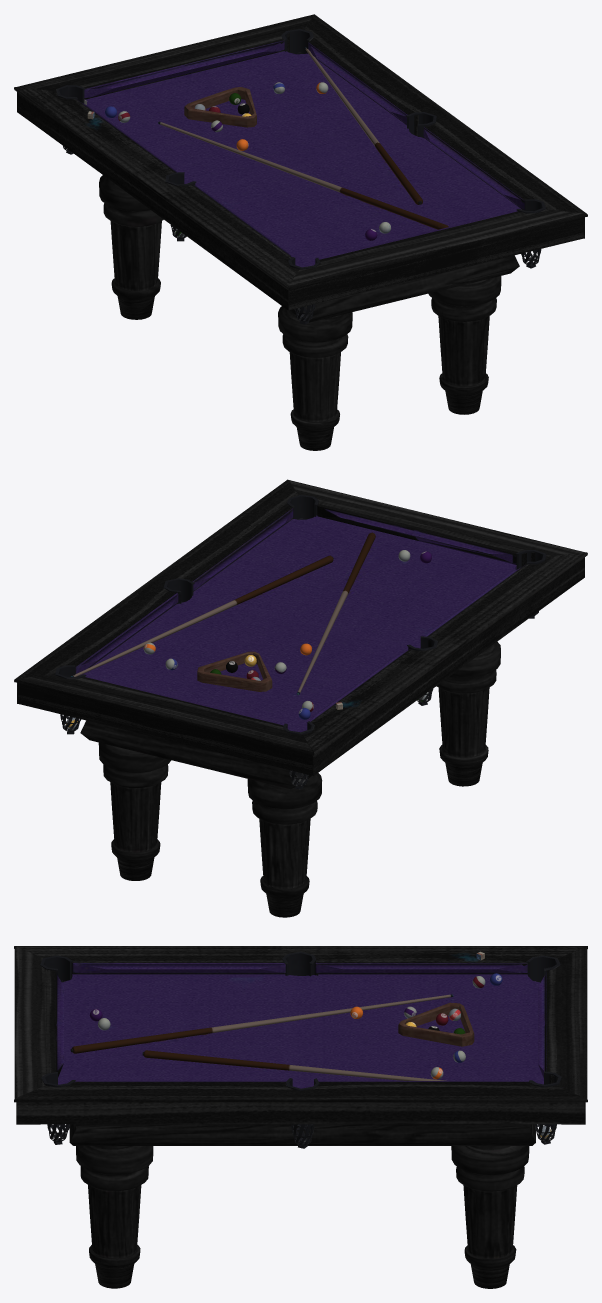
Rendered from pool_table.glb.
The picture shows the model from 3 angles, top to bottom: view 1: azimuth 30°, elevation 25°; view 2: azimuth 150°, elevation 25°; view 3: azimuth 270°, elevation 25°; orthographic projection. The views are drawn at different scales.
Visible parts, largest first — view 1: Felt_G, Long1_G, Short2_G, Long2_G, Short1_G, Leg1_G, Leg2_G, Leg3_G, Base_G, Stick1_G, Rack_G, Stick2_G; view 2: Felt_G, Long1_G, Short1_G, Long2_G, Short2_G, Leg3_G, Leg4_G, Leg1_G, Base_G, Stick2_G, Rack_G, Stick1_G (+1 smaller); view 3: Felt_G, Long2_G, Long1_G, Base_G, Leg4_G, Leg2_G, Short1_G, Short2_G, Stick1_G, Stick2_G, Rack_G, Plastic3_G (+2 smaller).
Boxes of the visible parts, bbox=[...] form: Felt_G: bbox=[84, 51, 521, 267]; Long1_G: bbox=[14, 87, 299, 310]; Short2_G: bbox=[287, 209, 586, 310]; Long2_G: bbox=[304, 14, 587, 238]; Short1_G: bbox=[17, 14, 313, 99]; Leg1_G: bbox=[278, 306, 352, 450]; Leg2_G: bbox=[428, 276, 501, 414]; Leg3_G: bbox=[99, 175, 163, 319]; Base_G: bbox=[291, 255, 519, 322]; Stick1_G: bbox=[158, 121, 448, 229]; Rack_G: bbox=[184, 87, 256, 127]; Stick2_G: bbox=[305, 47, 422, 204]; Felt_G: bbox=[79, 515, 516, 732]; Long1_G: bbox=[302, 552, 587, 775]; Short1_G: bbox=[15, 674, 313, 775]; Long2_G: bbox=[14, 479, 298, 703]; Short2_G: bbox=[289, 480, 586, 566]; Leg3_G: bbox=[247, 773, 322, 917]; Leg4_G: bbox=[98, 742, 171, 880]; Leg1_G: bbox=[436, 641, 500, 786]; Base_G: bbox=[80, 720, 310, 789]; Stick2_G: bbox=[70, 555, 333, 676]; Rack_G: bbox=[197, 651, 272, 691]; Stick1_G: bbox=[297, 532, 375, 695]; Felt_G: bbox=[58, 974, 543, 1088]; Long2_G: bbox=[14, 1081, 587, 1124]; Long1_G: bbox=[14, 946, 587, 977]; Base_G: bbox=[69, 1124, 535, 1145]; Leg4_G: bbox=[451, 1146, 529, 1288]; Leg2_G: bbox=[76, 1146, 153, 1288]; Short1_G: bbox=[538, 946, 587, 1124]; Short2_G: bbox=[14, 946, 63, 1098]; Stick1_G: bbox=[70, 994, 453, 1053]; Stick2_G: bbox=[142, 1050, 446, 1080]; Rack_G: bbox=[398, 1002, 474, 1046]; Plastic3_G: bbox=[282, 951, 316, 976].
Bounding box in the file's own units: 135 × 93 × 213.
3 materials, 3 textured.
